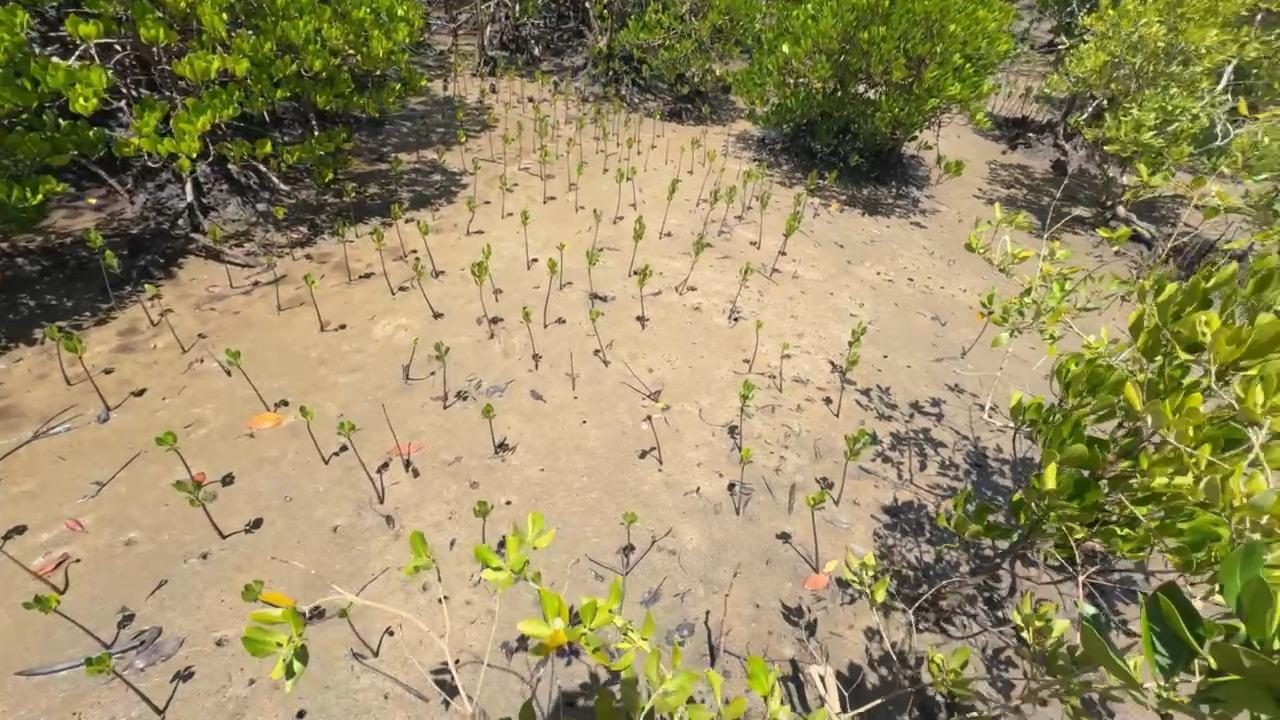Tree: (20, 593, 112, 652), (83, 652, 165, 716), (335, 419, 383, 505), (104, 248, 156, 327), (63, 332, 110, 408), (81, 226, 121, 311), (171, 480, 226, 539), (0, 546, 63, 596), (144, 282, 187, 352), (225, 348, 271, 412), (836, 428, 873, 507), (824, 150, 866, 209), (154, 431, 198, 485), (804, 488, 830, 575), (678, 234, 713, 296), (336, 607, 377, 658), (770, 211, 801, 278), (719, 564, 741, 657), (206, 222, 235, 288), (382, 403, 408, 474), (299, 405, 329, 465), (44, 323, 72, 387), (411, 256, 439, 317), (470, 260, 492, 337), (370, 226, 394, 296), (837, 352, 861, 418), (622, 360, 658, 403), (473, 500, 495, 570), (728, 262, 755, 319), (781, 191, 805, 255), (659, 178, 682, 240), (272, 203, 296, 261), (738, 378, 756, 453), (813, 169, 840, 219), (416, 220, 439, 278), (302, 272, 324, 331), (696, 148, 717, 208), (332, 215, 351, 281), (747, 158, 770, 212), (433, 340, 450, 411), (636, 263, 654, 330), (737, 447, 754, 516), (521, 305, 539, 370), (543, 257, 559, 329), (641, 414, 663, 465), (628, 215, 646, 277), (845, 320, 868, 368), (388, 202, 408, 257), (798, 168, 817, 225), (961, 321, 989, 359), (481, 243, 499, 302), (717, 184, 737, 237), (620, 511, 637, 571), (342, 180, 359, 239), (702, 186, 722, 236), (589, 308, 605, 367), (585, 248, 600, 308), (757, 190, 772, 250), (935, 159, 966, 188), (739, 167, 754, 223), (748, 319, 763, 372), (403, 336, 419, 384), (493, 52, 507, 104), (481, 403, 495, 454), (520, 208, 531, 271), (779, 341, 792, 394), (454, 104, 468, 153), (613, 167, 625, 224), (264, 253, 276, 309), (476, 67, 488, 122), (389, 154, 404, 195), (517, 53, 527, 114), (464, 196, 480, 234), (539, 115, 548, 181), (485, 109, 496, 162), (456, 127, 468, 175), (502, 127, 514, 173), (555, 241, 566, 291), (756, 161, 768, 203), (575, 161, 584, 214), (505, 65, 516, 108), (498, 173, 508, 219), (551, 90, 560, 140), (592, 208, 603, 248), (543, 141, 550, 203), (434, 144, 445, 183), (564, 74, 572, 126), (472, 156, 481, 202), (651, 109, 661, 150), (532, 103, 540, 154), (915, 137, 937, 155), (534, 69, 546, 102), (452, 52, 460, 101), (611, 98, 621, 137), (565, 137, 572, 192), (577, 115, 585, 163), (616, 102, 624, 149), (626, 137, 634, 182), (602, 131, 610, 175), (517, 120, 524, 170), (461, 53, 469, 96), (677, 145, 686, 180), (630, 166, 637, 211), (637, 114, 644, 156), (606, 87, 614, 123), (702, 128, 709, 168), (457, 56, 463, 100), (572, 114, 579, 149), (570, 352, 576, 389), (503, 101, 510, 132), (714, 167, 725, 186), (555, 119, 560, 160), (595, 121, 601, 154), (644, 145, 651, 173), (470, 52, 475, 87), (690, 136, 694, 174), (665, 139, 670, 166), (675, 279, 686, 291), (617, 142, 623, 163), (662, 122, 664, 138)
